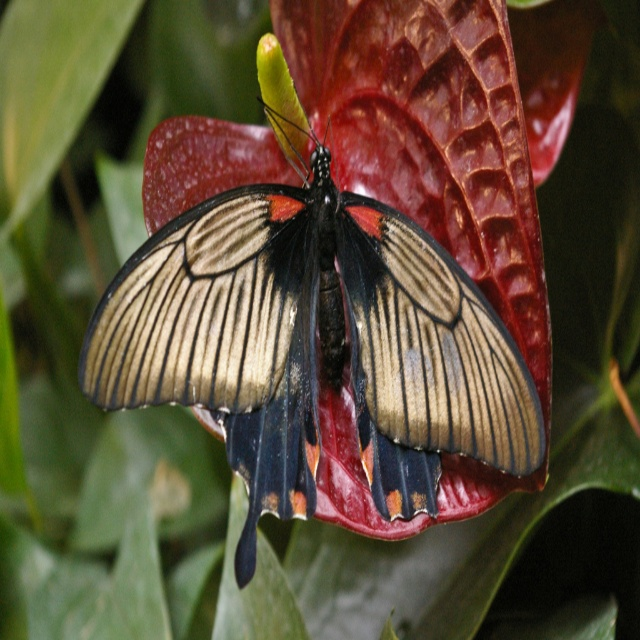Butterfly: (78, 16, 541, 579)
